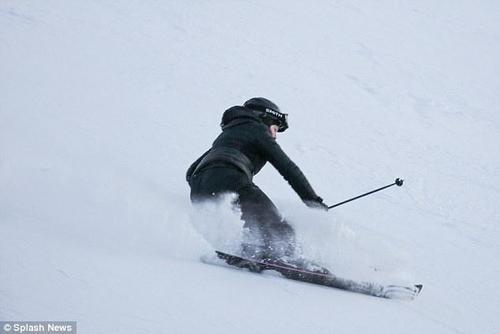falling: (172, 91, 340, 276)
